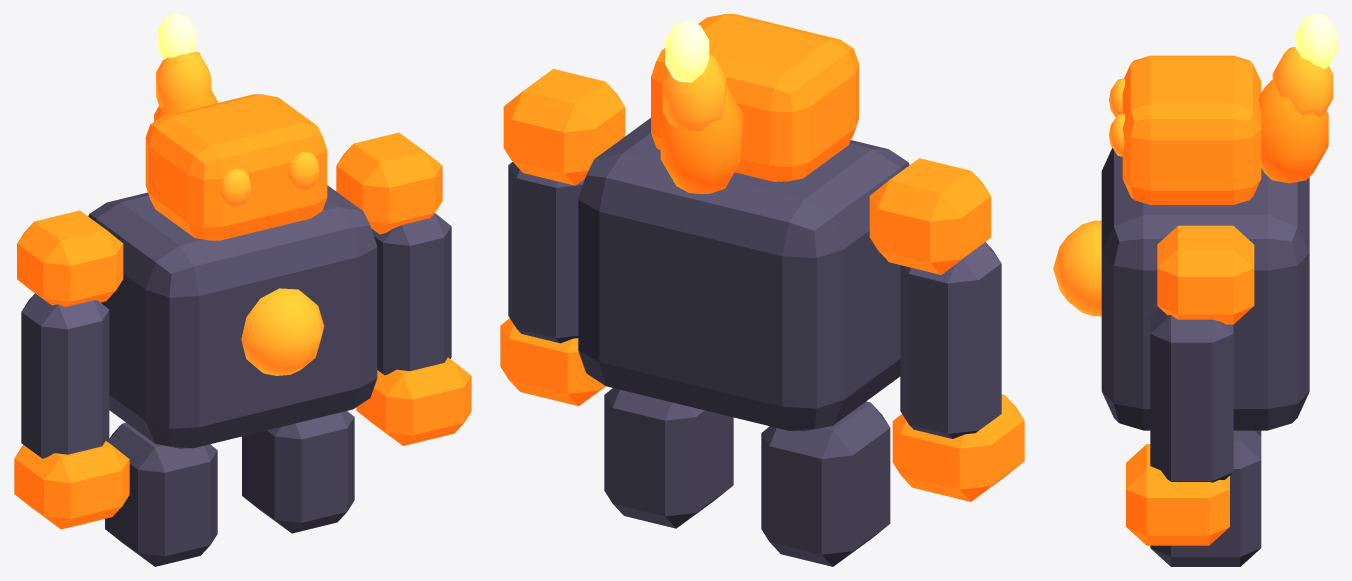
File: monster_lava_golem.glb
3 views of the same model, side by side, from view 1: azimuth 30°, elevation 25°; view 2: azimuth 150°, elevation 25°; view 3: azimuth 270°, elevation 25° (orthographic). The views are drawn at different scales.
Visible parts, largest first — view 1: body_t0_palette, body_t0_lava, arml_t0_lava, armr_t0_lava, arml_t0_palette, legl_t0_palette, legr_t0_palette, armr_t0_palette, body_t0_fire, body_t0_glow_gold; view 2: body_t0_palette, body_t0_lava, arml_t0_lava, arml_t0_palette, legl_t0_palette, armr_t0_lava, legr_t0_palette, armr_t0_palette, body_t0_fire, body_t0_glow_gold; view 3: body_t0_palette, body_t0_lava, armr_t0_lava, armr_t0_palette, body_t0_fire, legr_t0_palette, body_t0_glow_gold.
Part boxes in pixels (box(x1,y1,x2,y2)): body_t0_palette: box(88, 185, 377, 448); body_t0_lava: box(145, 91, 327, 240); arml_t0_lava: box(14, 210, 129, 529); armr_t0_lava: box(336, 132, 471, 445); arml_t0_palette: box(21, 293, 109, 458); legl_t0_palette: box(105, 422, 217, 566); legr_t0_palette: box(242, 411, 354, 533); armr_t0_palette: box(371, 213, 451, 375); body_t0_fire: box(156, 51, 324, 375); body_t0_glow_gold: box(157, 14, 196, 59); body_t0_palette: box(578, 118, 909, 431); body_t0_lava: box(651, 14, 858, 194); arml_t0_lava: box(869, 158, 1024, 501); arml_t0_palette: box(900, 242, 1001, 438); legl_t0_palette: box(761, 401, 890, 566); armr_t0_lava: box(500, 69, 625, 406); legr_t0_palette: box(604, 388, 733, 528); armr_t0_palette: box(508, 162, 584, 343); body_t0_fire: box(662, 54, 726, 130); body_t0_glow_gold: box(665, 21, 709, 82); body_t0_palette: box(1101, 148, 1309, 430); body_t0_lava: box(1122, 55, 1328, 204); armr_t0_lava: box(1126, 225, 1254, 545); armr_t0_palette: box(1150, 308, 1233, 482); body_t0_fire: box(1053, 47, 1333, 316); legr_t0_palette: box(1150, 430, 1261, 566); body_t0_glow_gold: box(1295, 14, 1337, 69).
Size of the model in its own units: 0.375 by 0.4024 by 0.2052.
